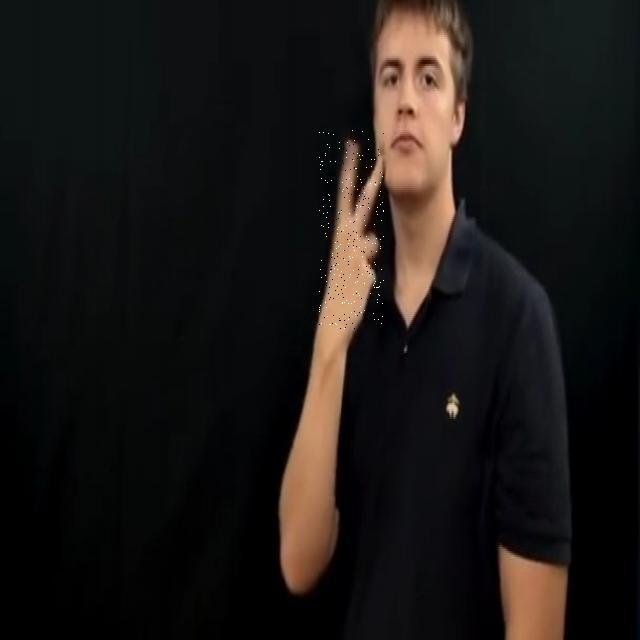vegetables: (319, 130, 384, 330)
